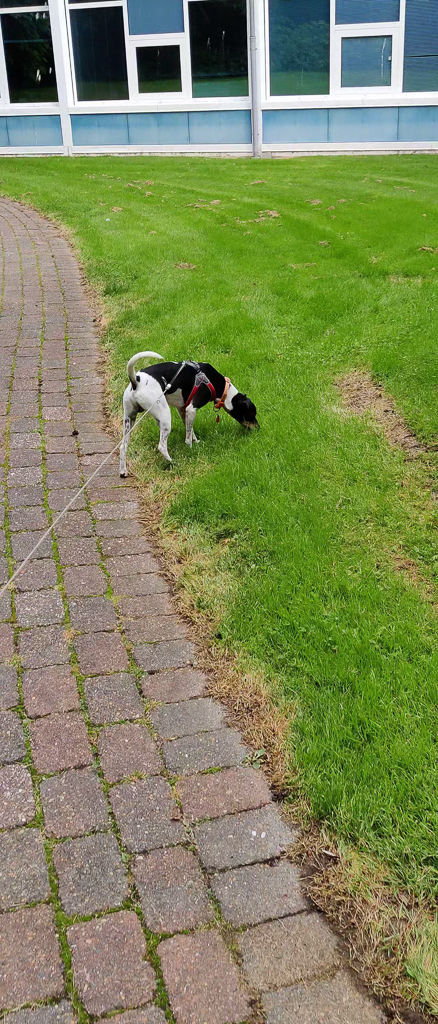Dog: (104, 340, 275, 489)
